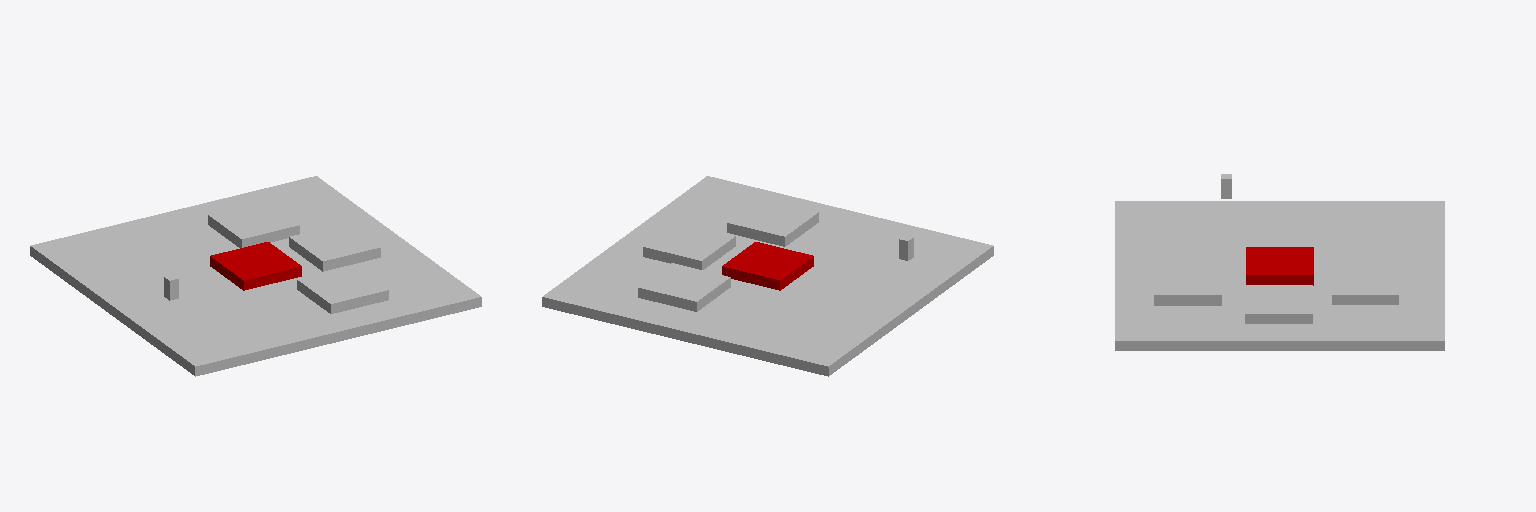
File: ShootingRange.obj
3 views of the same model, side by side, from view 1: azimuth 30°, elevation 25°; view 2: azimuth 150°, elevation 25°; view 3: azimuth 270°, elevation 25° (orthographic).
Parts seen in each view (by area): view 1: Floor_Cube, Cube_Cube.001, Cube.004_Cube.005, Cube.003_Cube.004, Cube.002_Cube.003; view 2: Floor_Cube, Cube.002_Cube.003, Cube.004_Cube.005, Cube_Cube.001, Cube.003_Cube.004; view 3: Floor_Cube, Cube.003_Cube.004, Cube.004_Cube.005, Cube_Cube.001, Cube.002_Cube.003.
Part boxes in pixels (left/top/right/bottom): Floor_Cube: left=30, top=176, right=481, bottom=376; Cube_Cube.001: left=210, top=242, right=301, bottom=290; Cube.004_Cube.005: left=297, top=265, right=388, bottom=313; Cube.003_Cube.004: left=289, top=223, right=380, bottom=271; Cube.002_Cube.003: left=208, top=200, right=299, bottom=247; Floor_Cube: left=542, top=176, right=993, bottom=376; Cube.002_Cube.003: left=638, top=263, right=730, bottom=311; Cube.004_Cube.005: left=727, top=198, right=818, bottom=246; Cube_Cube.001: left=722, top=242, right=813, bottom=290; Cube.003_Cube.004: left=643, top=222, right=735, bottom=269; Floor_Cube: left=1115, top=201, right=1444, bottom=350; Cube.003_Cube.004: left=1245, top=285, right=1312, bottom=323; Cube.004_Cube.005: left=1154, top=267, right=1221, bottom=305; Cube_Cube.001: left=1246, top=247, right=1313, bottom=285; Cube.002_Cube.003: left=1332, top=267, right=1398, bottom=304.
Size of the model in its own units: 60 by 10.11 by 60.